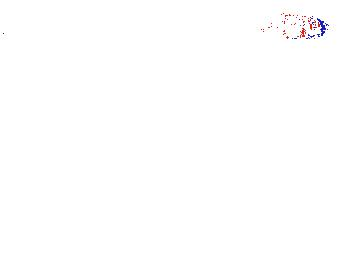X-ray fish: (271, 12, 332, 40), (53, 34, 105, 58), (241, 1, 289, 20)
